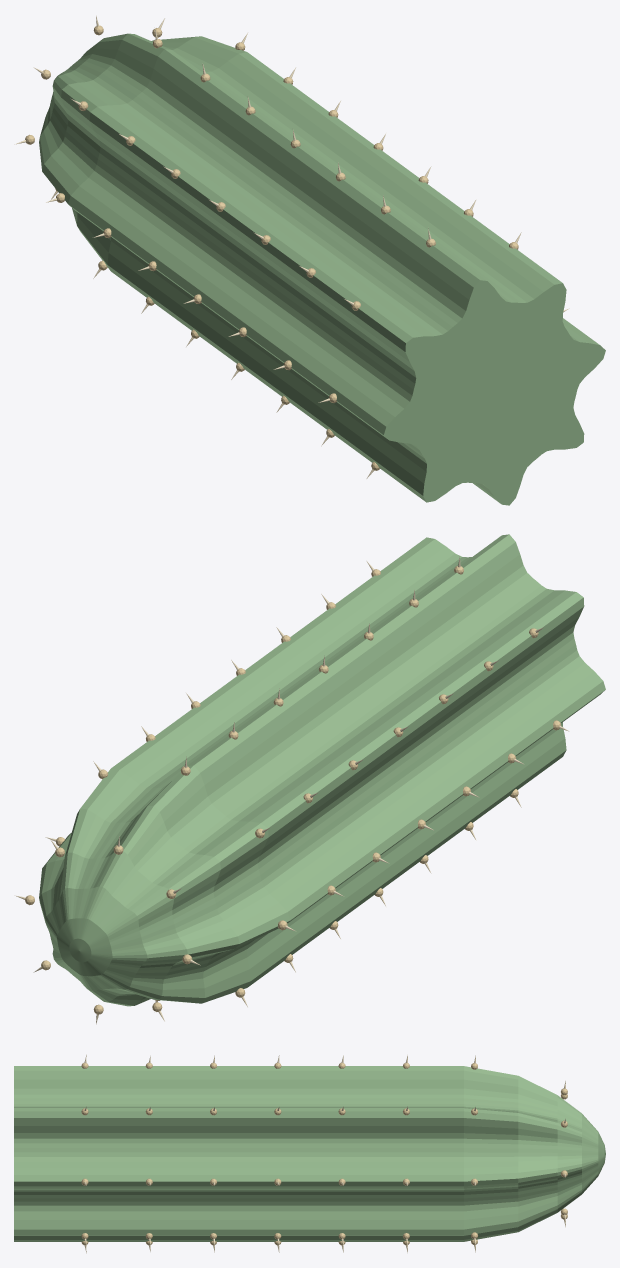
The model's file is pachanoi-geometry-nodes-frame4.glb.
The picture shows the model from 3 angles, top to bottom: view 1: azimuth 30°, elevation 25°; view 2: azimuth 150°, elevation 25°; view 3: azimuth 270°, elevation 25°; orthographic projection. The views are drawn at different scales.
Visible parts, largest first — view 1: WACHUMA_Pachanoi_GN_Baked; view 2: WACHUMA_Pachanoi_GN_Baked; view 3: WACHUMA_Pachanoi_GN_Baked.
Part boxes in pixels (x1,y1,x2,y2): WACHUMA_Pachanoi_GN_Baked: [14, 15, 605, 505]; WACHUMA_Pachanoi_GN_Baked: [14, 534, 605, 1024]; WACHUMA_Pachanoi_GN_Baked: [14, 1054, 605, 1253].
Size of the model in its own units: 0.9124 by 0.9124 by 2.6.
